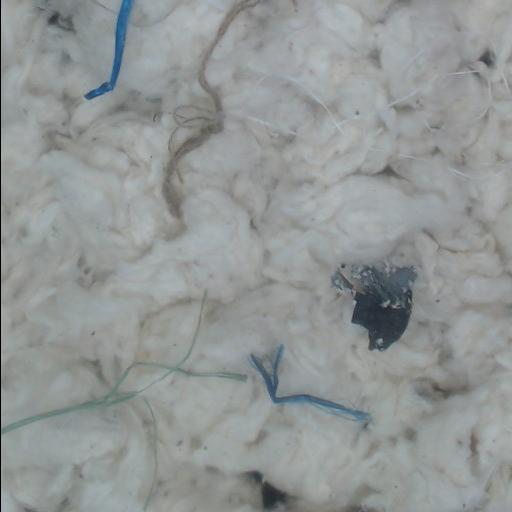cloth: (333, 264, 417, 350)
cotton: (1, 0, 512, 511)
thread: (1, 292, 247, 434), (250, 346, 369, 424), (199, 0, 258, 132), (426, 48, 512, 119), (259, 71, 348, 133), (84, 0, 134, 99), (164, 129, 210, 189), (449, 160, 512, 181), (385, 96, 407, 110), (407, 90, 416, 98)
